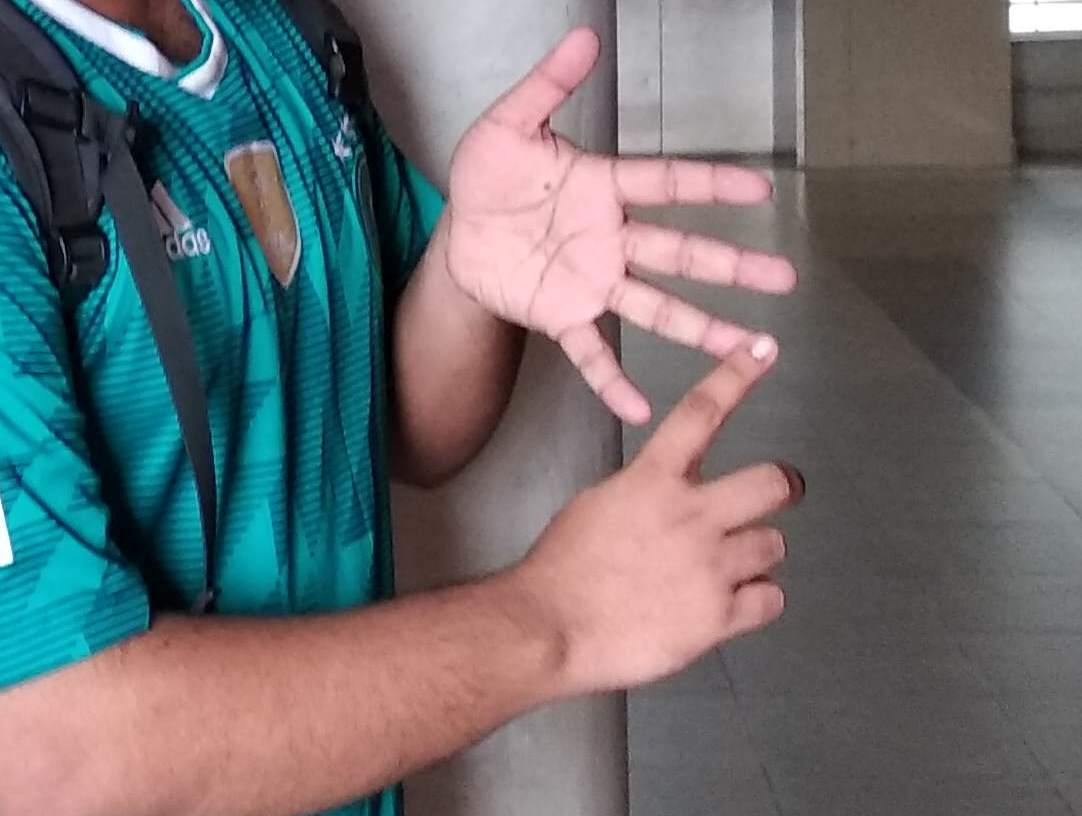e: (512, 85, 809, 711)
